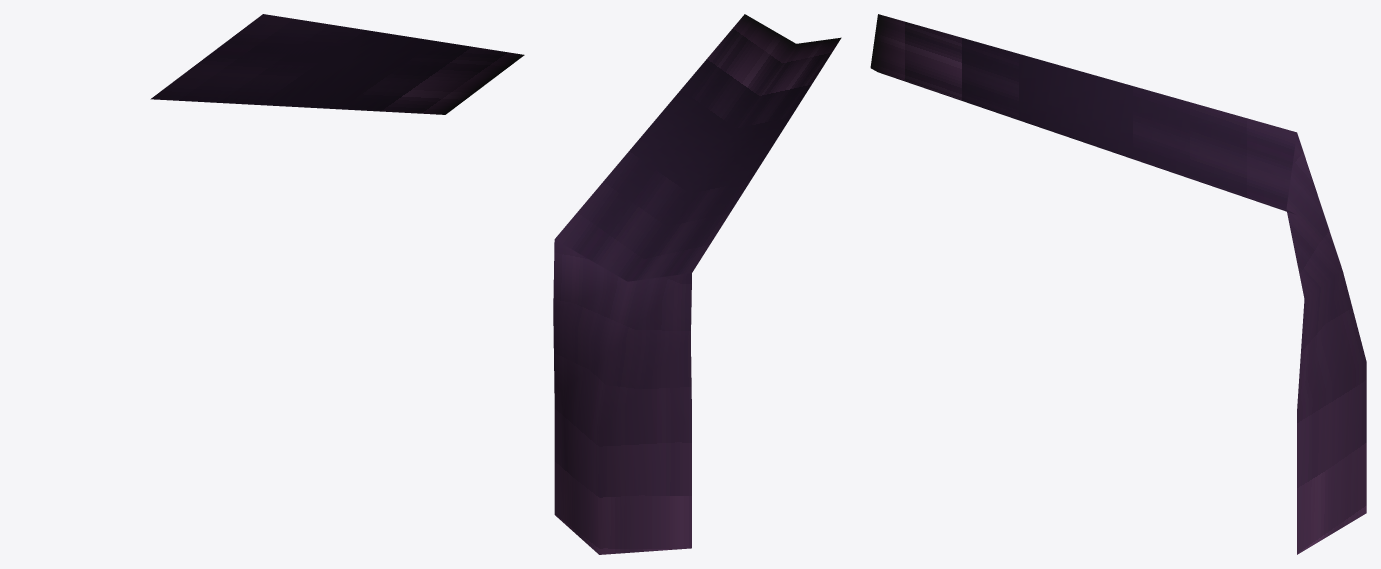
Rendered from Toxic_Level2_Running.glb.
3 views of the same model, side by side, from view 1: azimuth 30°, elevation 25°; view 2: azimuth 150°, elevation 25°; view 3: azimuth 270°, elevation 25° (orthographic). The views are drawn at different scales.
Visible parts, largest first — view 1: Toxic_Level2_Running; view 2: Toxic_Level2_Running; view 3: Toxic_Level2_Running.
Part boxes in pixels (x1,y1,x2,y2): Toxic_Level2_Running: (150,14,524,114); Toxic_Level2_Running: (553,14,841,554); Toxic_Level2_Running: (870,14,1366,554).
Bounding box in the file's own units: 0.2849 × 0.7488 × 0.7123.
Materials: 1 (1 with a texture image).
